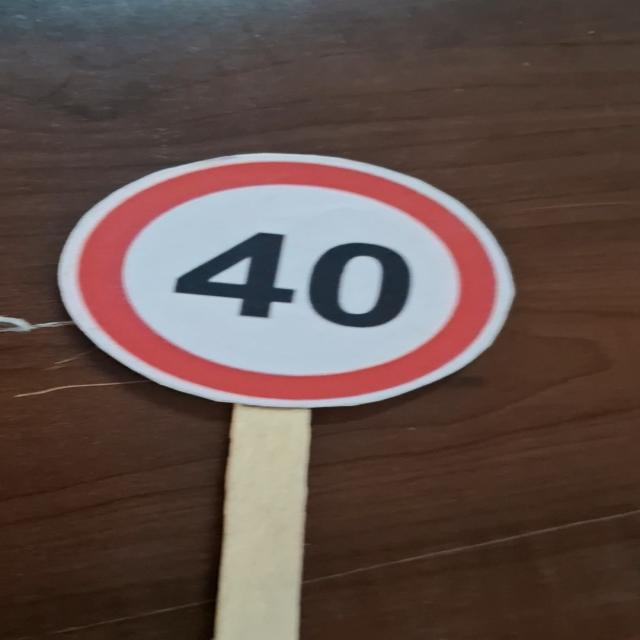Speed40: (56, 153, 525, 411)
